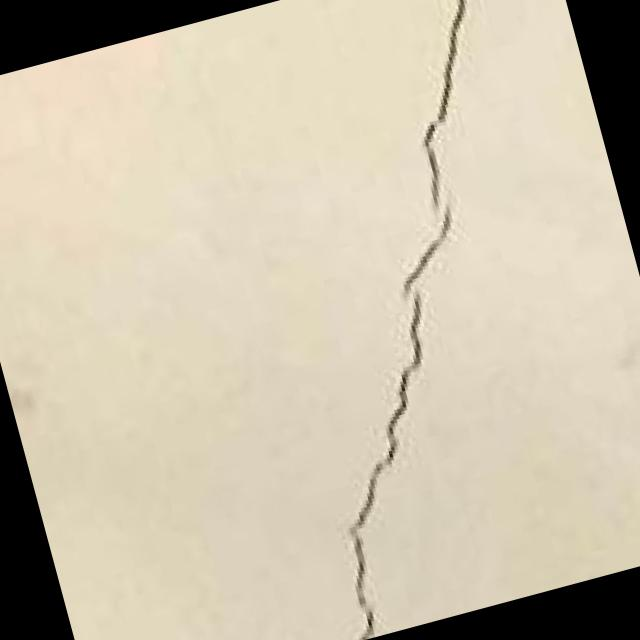crack: (203, 0, 640, 635)
